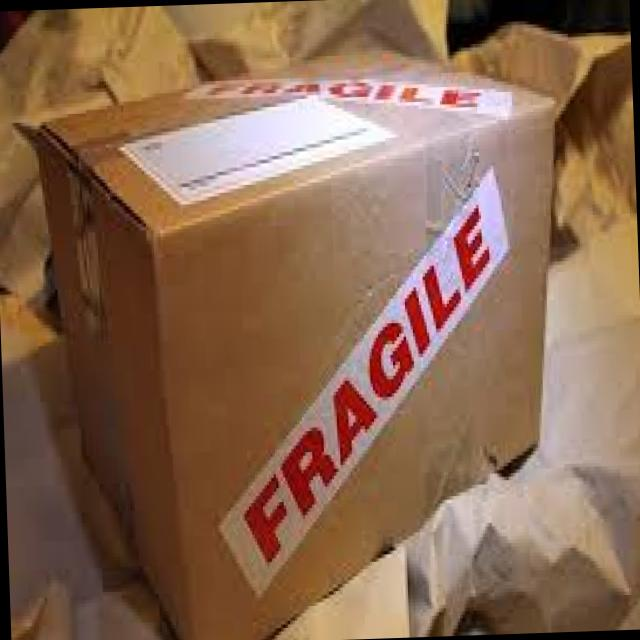box: (41, 44, 556, 640)
